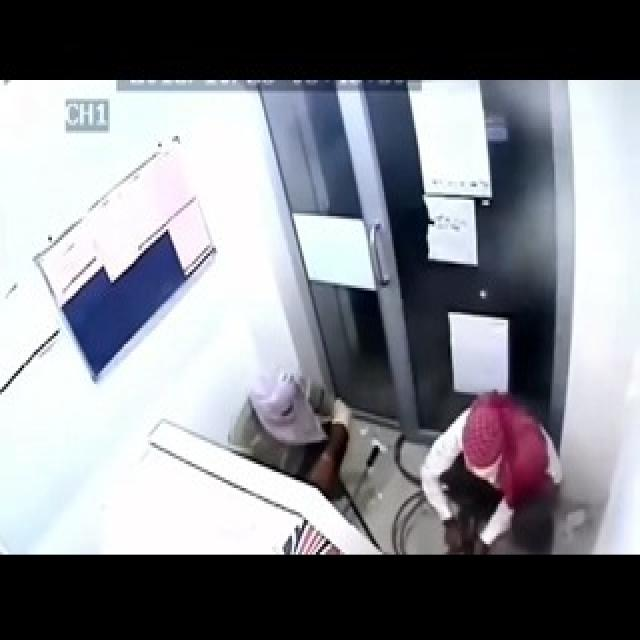thief: (236, 332, 543, 546)
